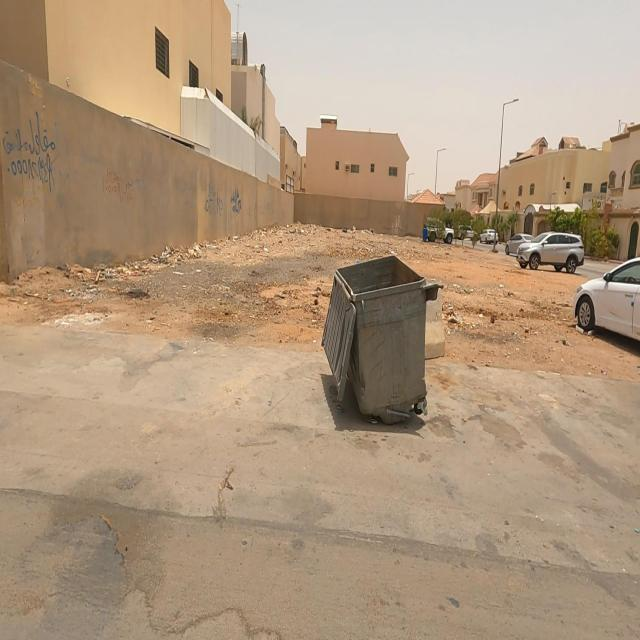Graffiti: (5, 112, 57, 195), (98, 166, 142, 205), (205, 186, 224, 216), (230, 189, 245, 216)
